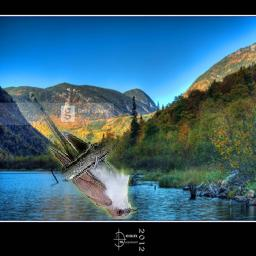Cuckoo: (29, 93, 137, 220)
